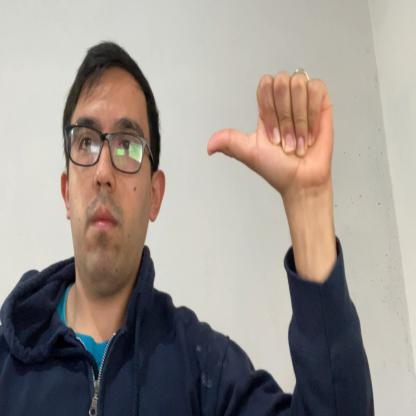A: (207, 71, 334, 193)
